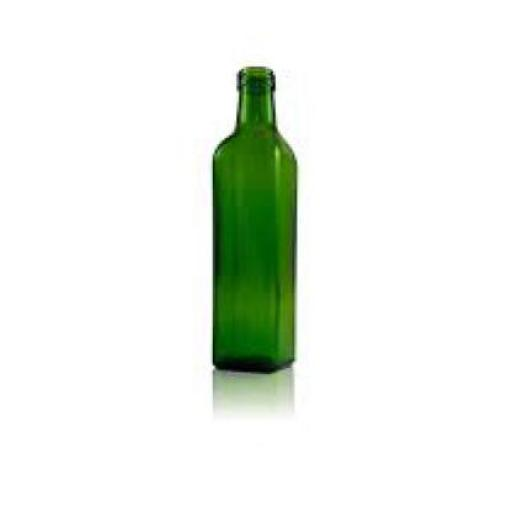glass: (210, 65, 292, 372)
